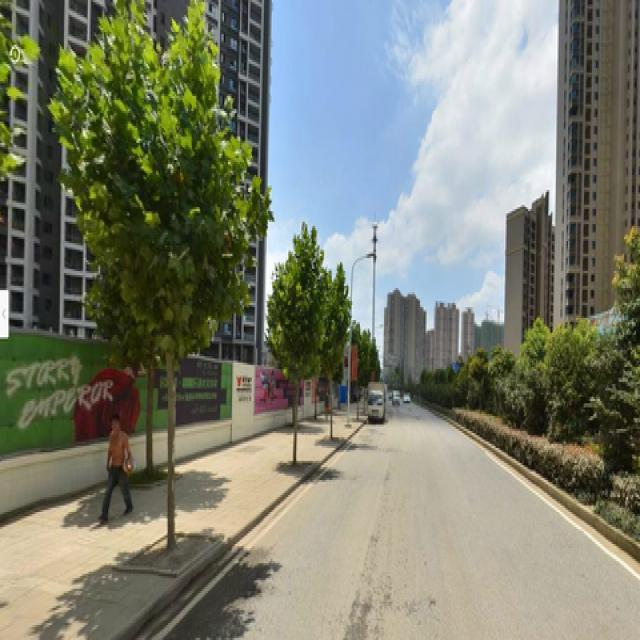meta: (64, 13, 257, 527)
